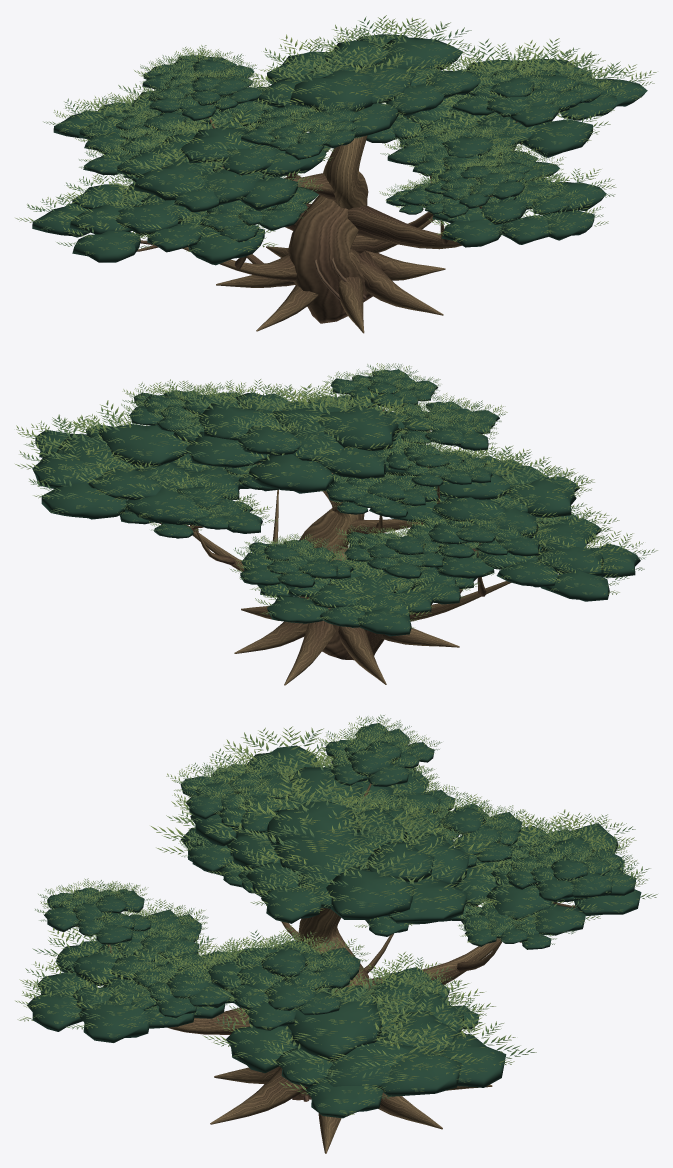
The picture shows the model from 3 angles, top to bottom: view 1: azimuth 30°, elevation 25°; view 2: azimuth 150°, elevation 25°; view 3: azimuth 270°, elevation 25°; orthographic projection. The views are drawn at different scales.
Parts seen in each view (by area): view 1: Crown_mass, Outer_foliage, Weathered_bark; view 2: Crown_mass, Outer_foliage, Weathered_bark; view 3: Crown_mass, Outer_foliage, Weathered_bark.
Boxes of the visible parts, <box> form: Crown_mass: <box>32,34,647,265</box>; Outer_foliage: <box>15,15,656,254</box>; Weathered_bark: <box>137,104,522,333</box>; Crown_mass: <box>32,369,640,636</box>; Outer_foliage: <box>15,363,657,628</box>; Weathered_bark: <box>158,408,511,685</box>; Crown_mass: <box>27,723,641,1118</box>; Outer_foliage: <box>15,714,657,1115</box>; Weathered_bark: <box>76,783,575,1153</box>.
Bounding box in the file's own units: 8.72 × 3.31 × 6.3.
4 materials, 1 textured.
